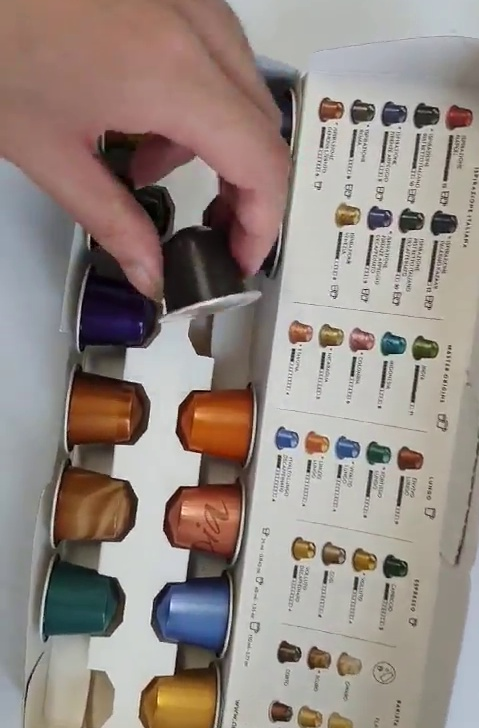capsule_4: (152, 221, 262, 322)
